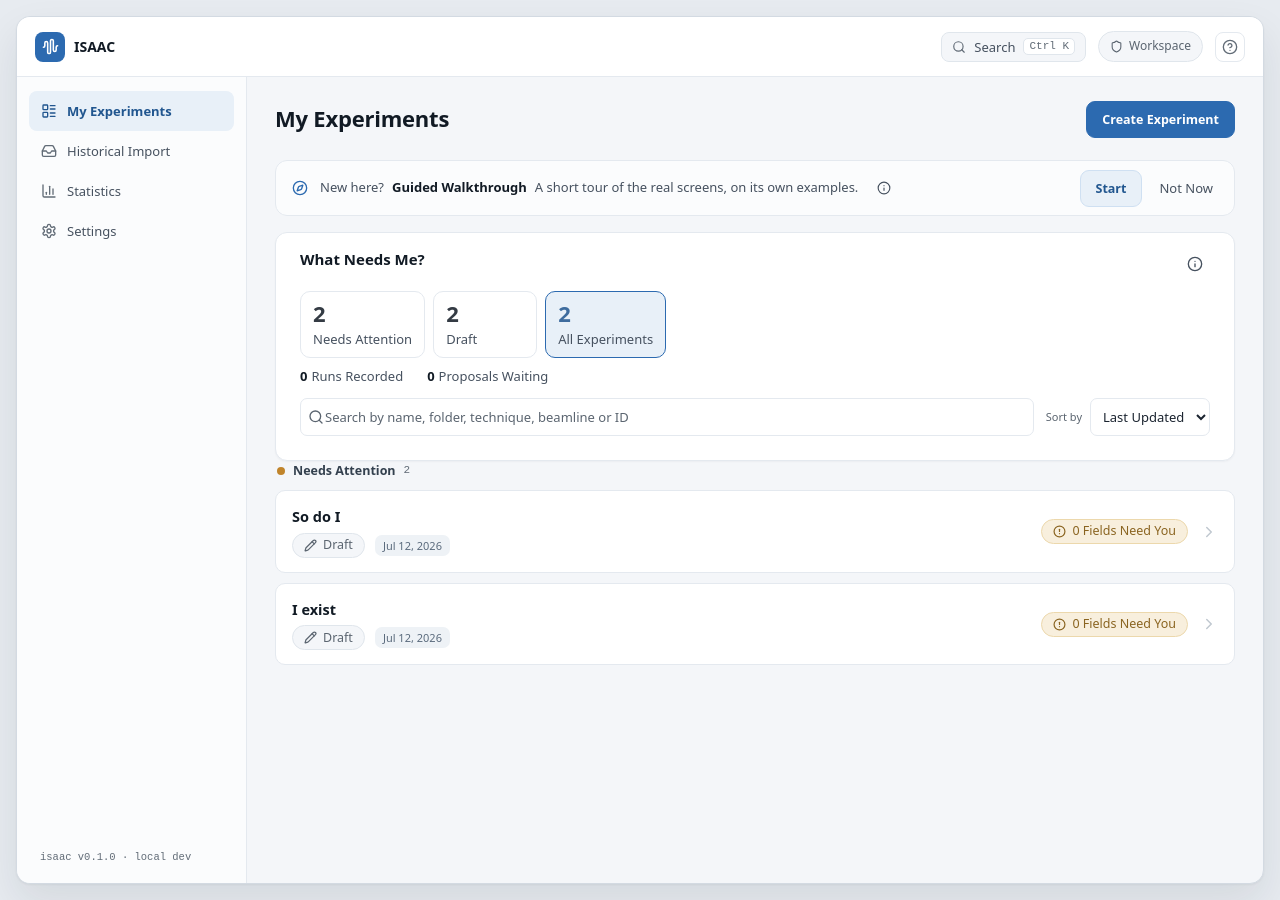
Test: the two empty states are DIFFERENT, and this is the one that matters › an empty RESULT never says "start your first experiment"
The image size is (1280, 900).
Expected: the text "I exist" is shown, [292,599,336,619]
Type "nothing matches this" into the search field named "Search Experiments".
click(667, 417); type("nothing matches this")  # box [300,398,1034,436]
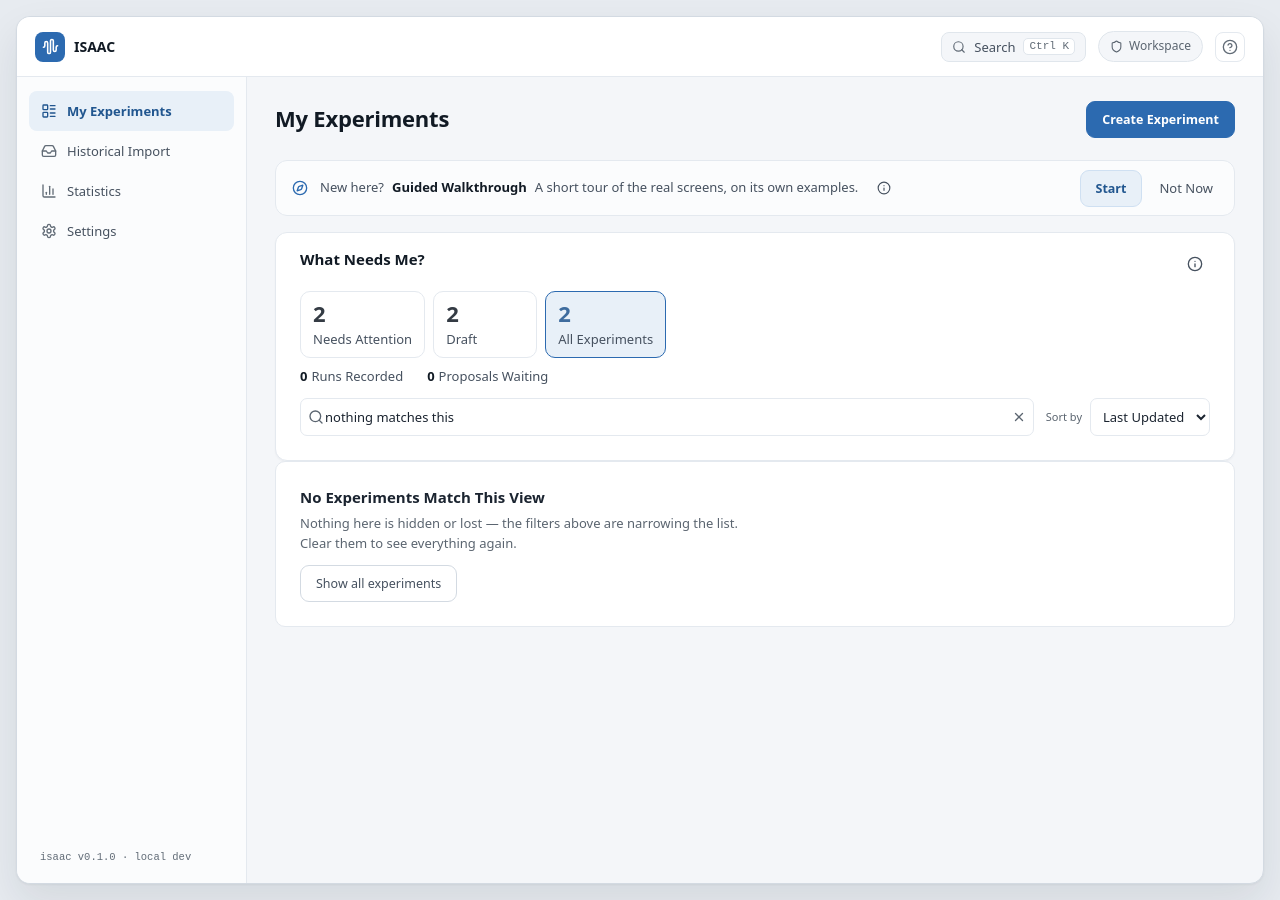
Expected: the heading "No Experiments Match This View" is shown, [300,487,545,507]
Click the button "Show all experiments".
click(379, 584)  # box [300,566,457,602]
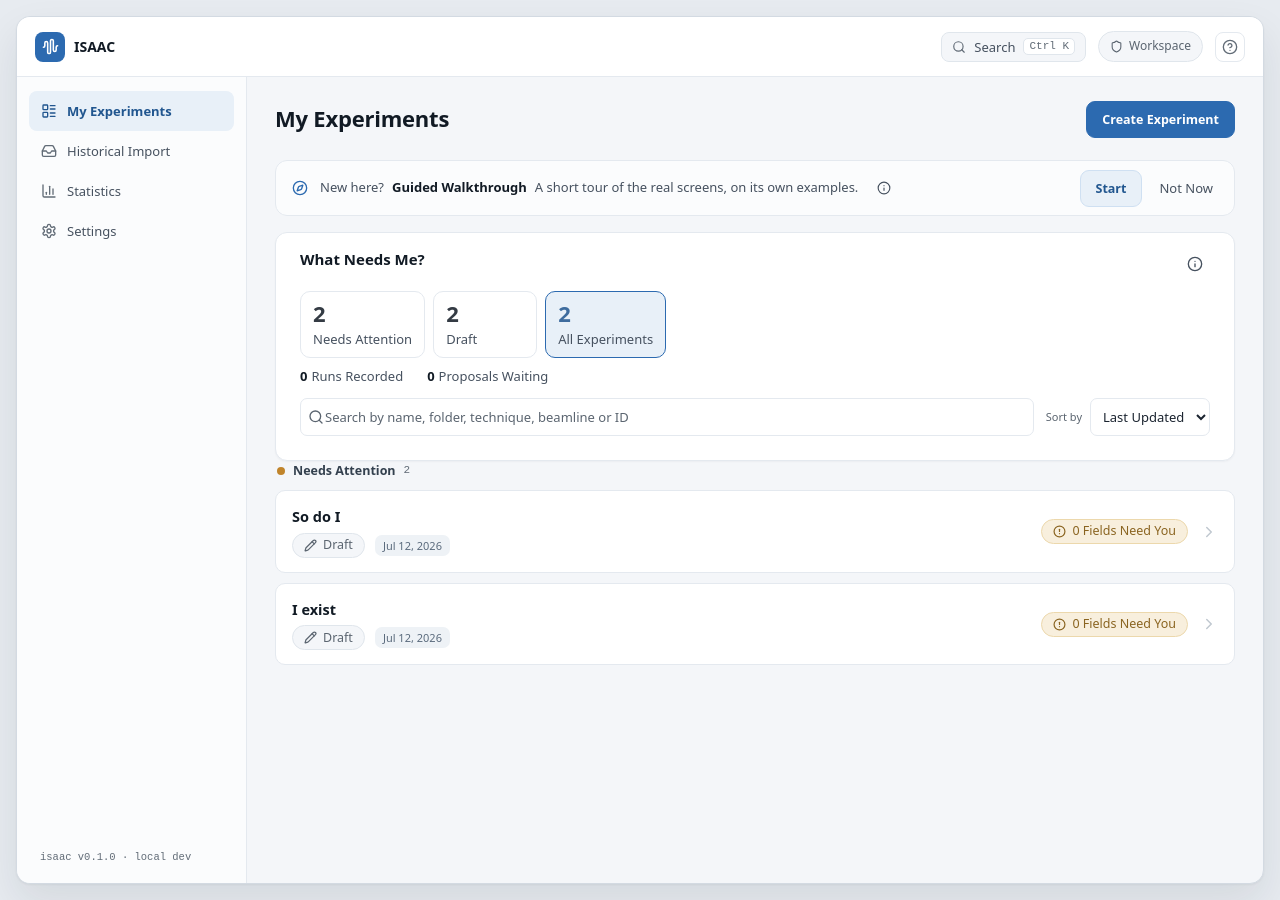
Expected: the text "I exist" is shown, [292,599,336,619]
Expected: the text "So do I" is shown, [292,506,340,526]
